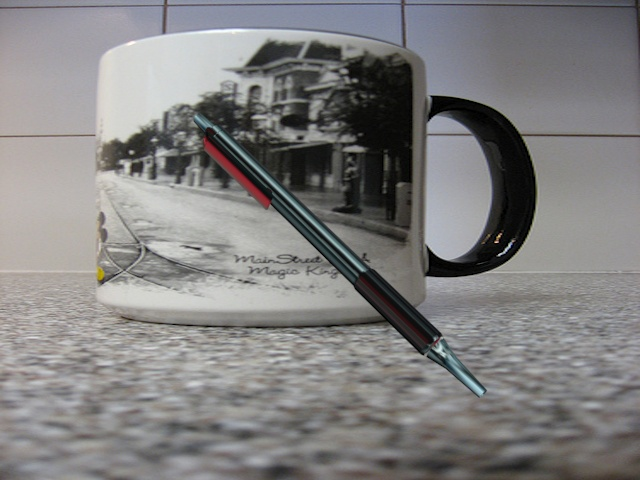pen: (192, 112, 496, 401)
